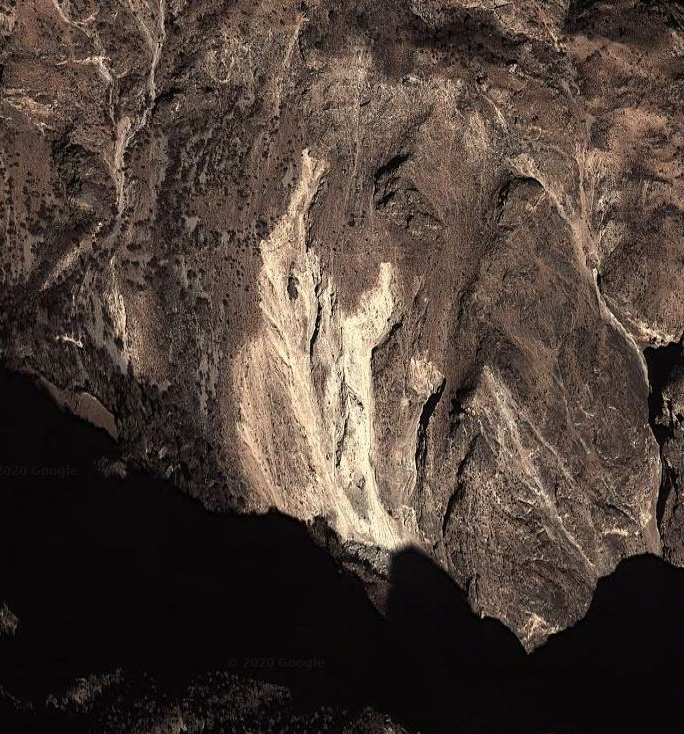slope: (215, 140, 452, 553)
